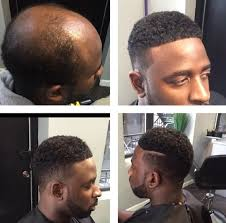black_male: (28, 131, 106, 223)
